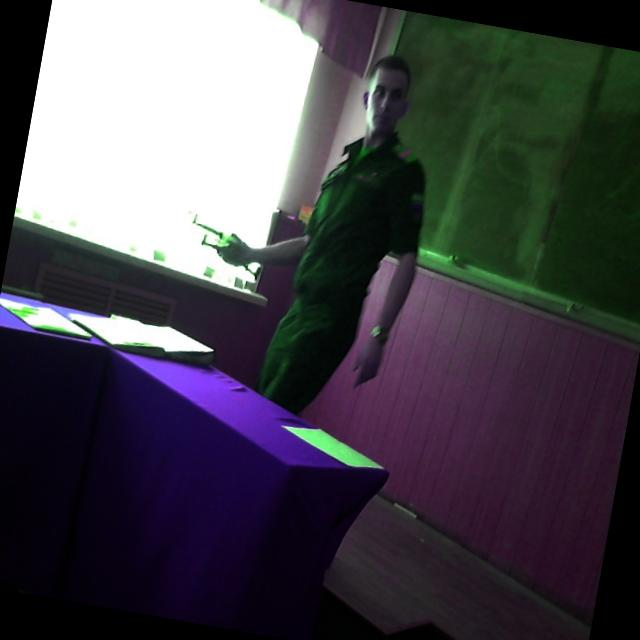drone: (157, 195, 281, 296)
